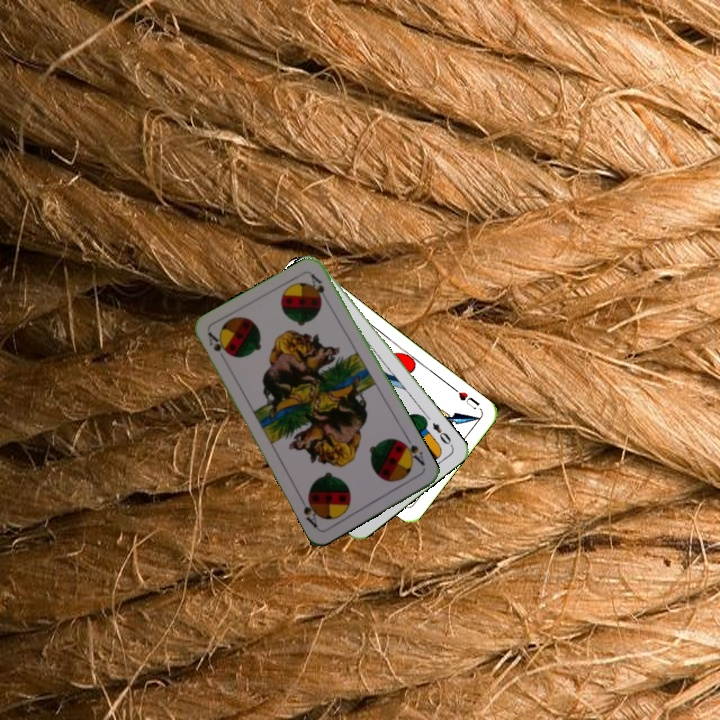EO: (428, 418, 455, 449)
HU: (449, 383, 482, 412)
SA: (203, 328, 232, 365), (397, 434, 427, 469)
